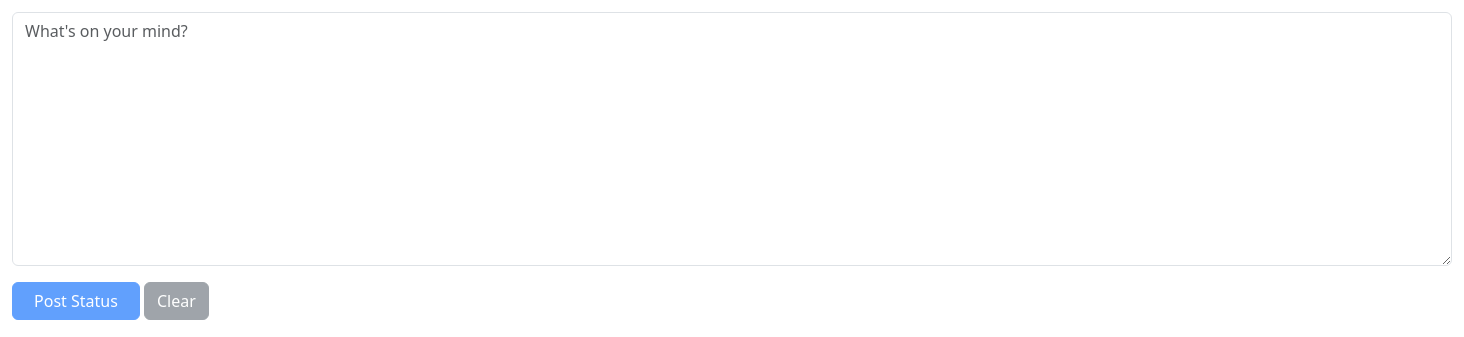
Test: PostStatus component › Post status and Clear buttons are disabled when the text field is cleared
In the text box named "status-text": (732, 139) left=12, top=12, right=1452, bottom=266, type "test"
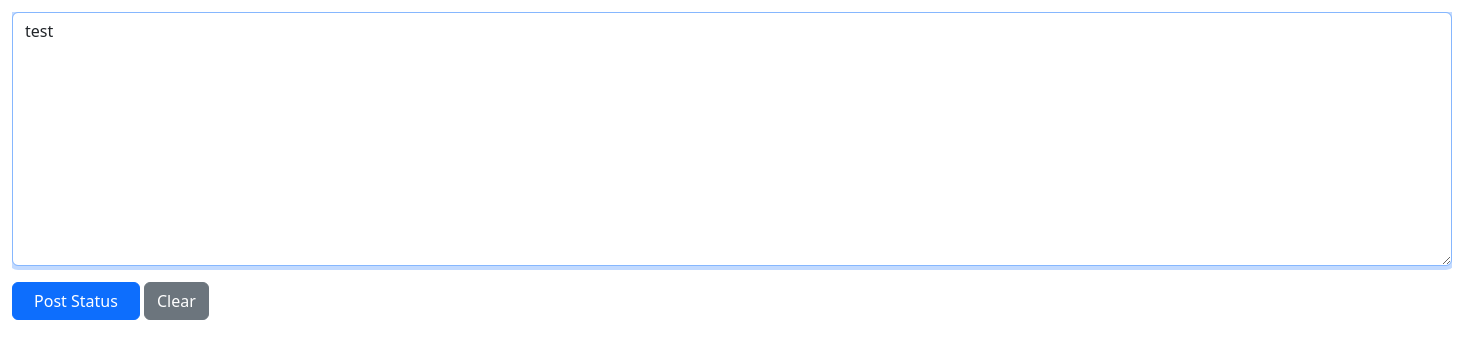
Now the button "Post Status" is enabled, box left=12, top=282, right=140, bottom=320
Now the button "Clear" is enabled
Click the button "Clear": (176, 301) left=144, top=282, right=209, bottom=320
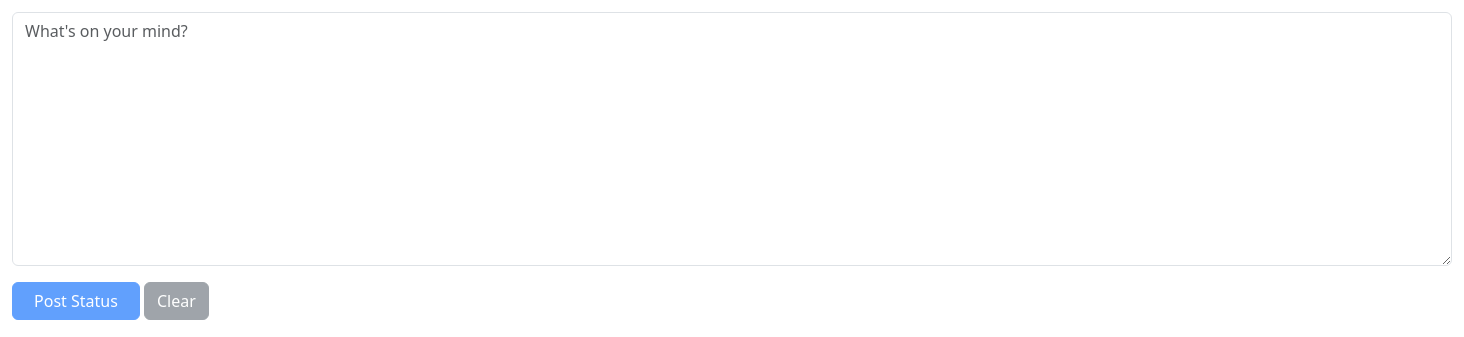
Now the text box named "status-text" is empty
Now the button "Post Status" is disabled, box left=12, top=282, right=140, bottom=320
Now the button "Clear" is disabled, box left=144, top=282, right=209, bottom=320
